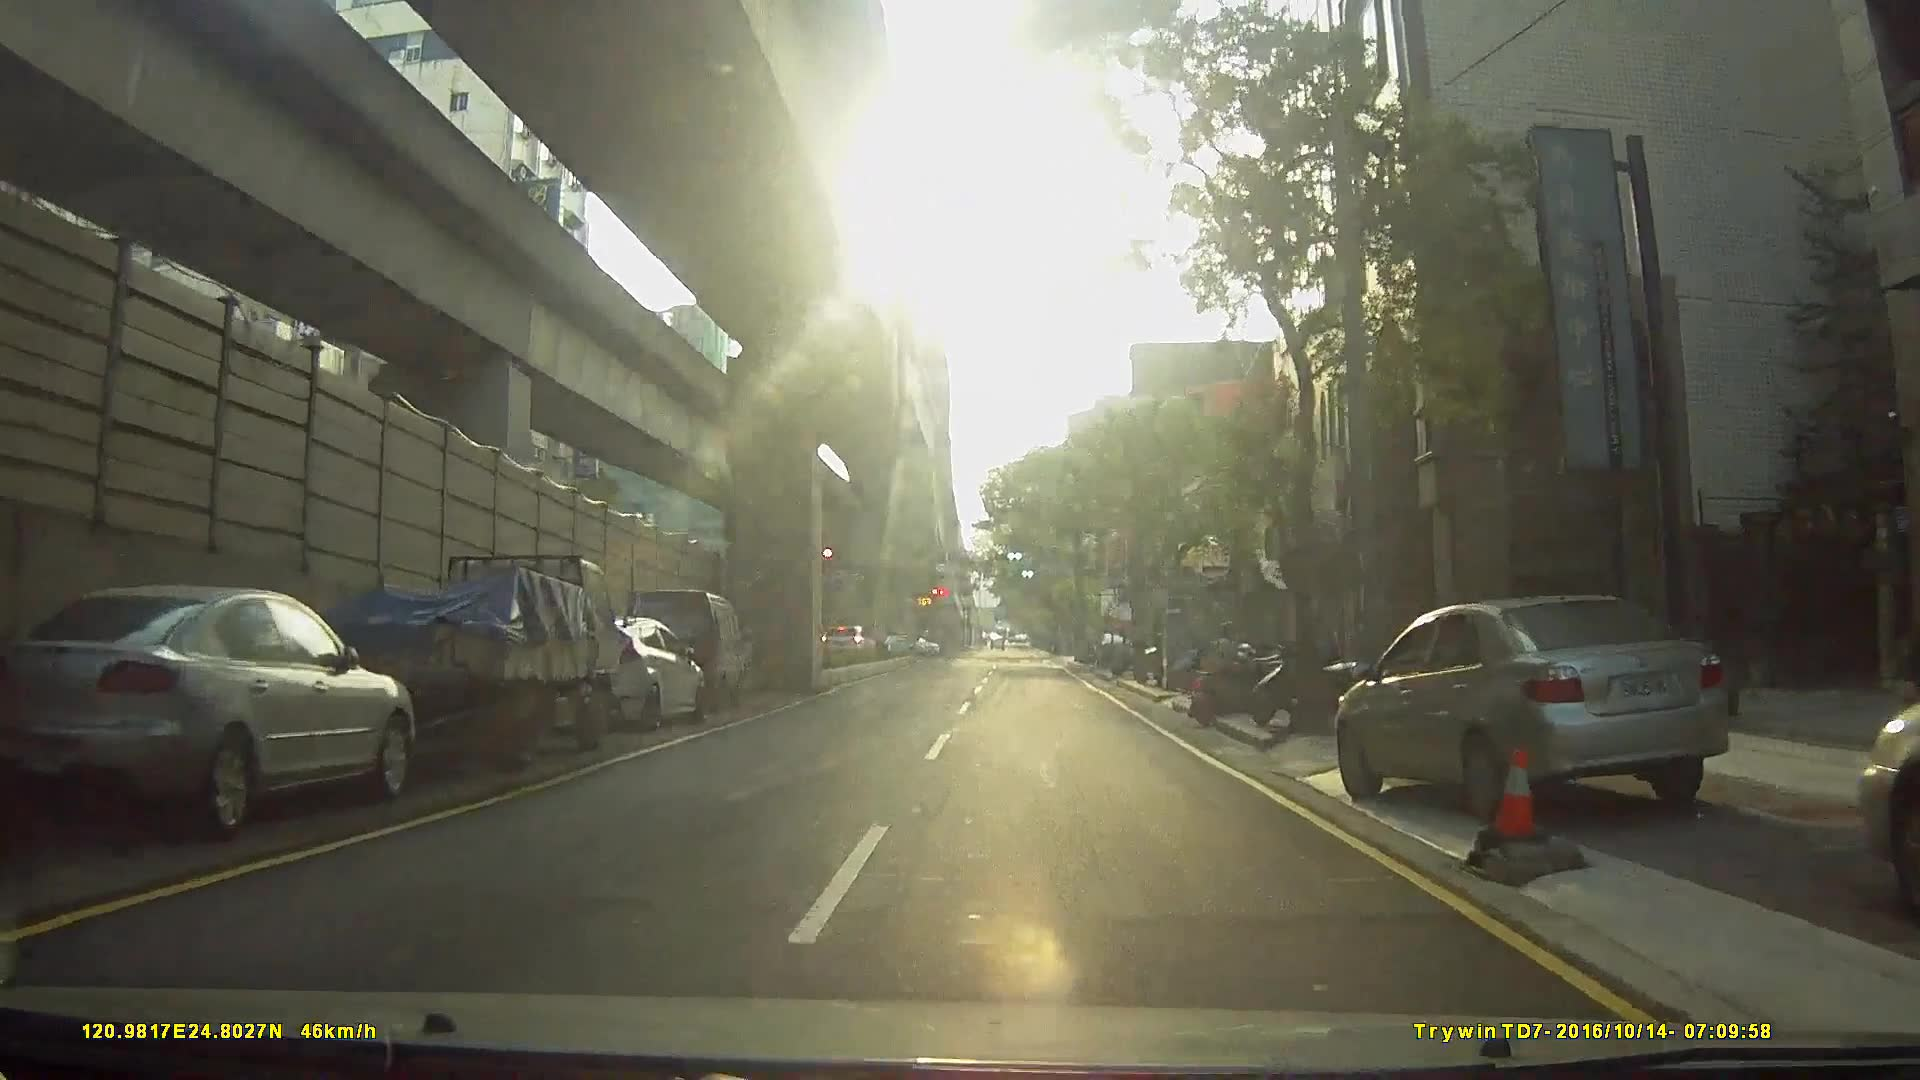rider: (1183, 613, 1274, 727)
vehicle: (7, 572, 435, 846), (1303, 581, 1776, 808), (286, 544, 646, 769), (540, 609, 702, 733), (622, 584, 747, 710), (819, 621, 876, 657)
